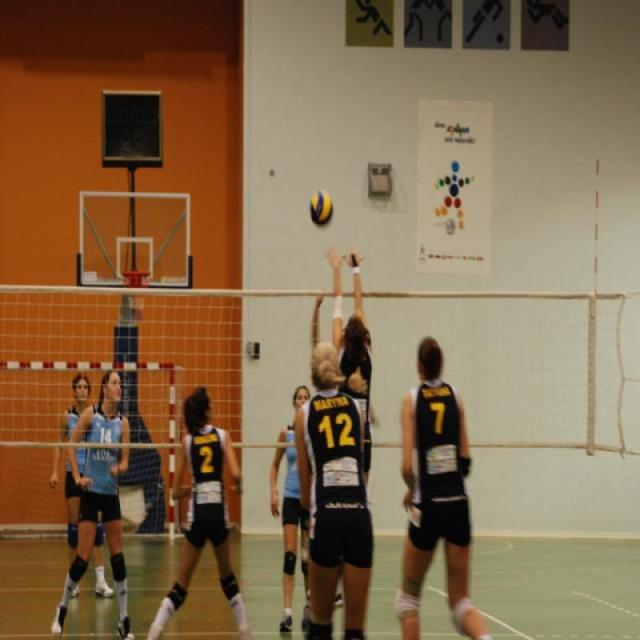volleyball: (309, 186, 334, 229)
